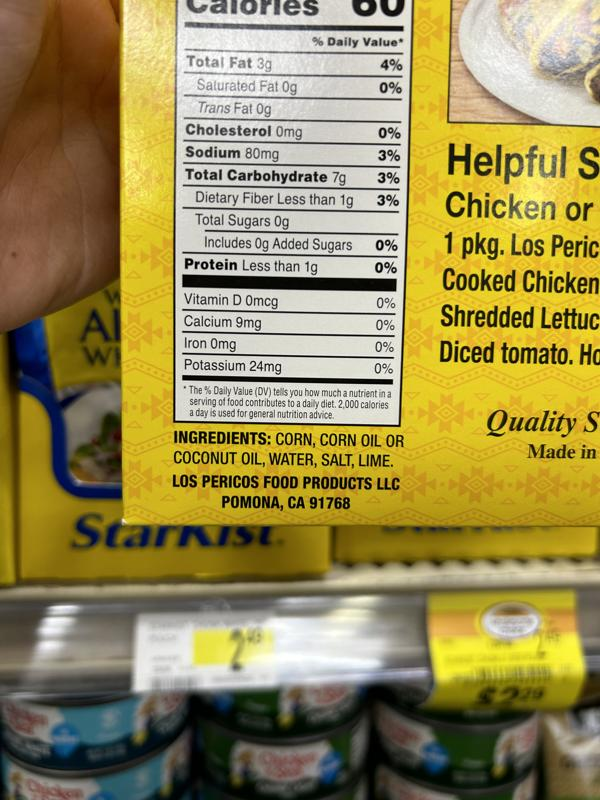ingredients: (170, 428, 407, 470)
